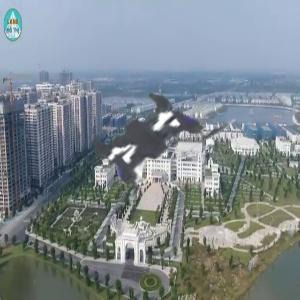drone: (24, 17, 284, 277)
